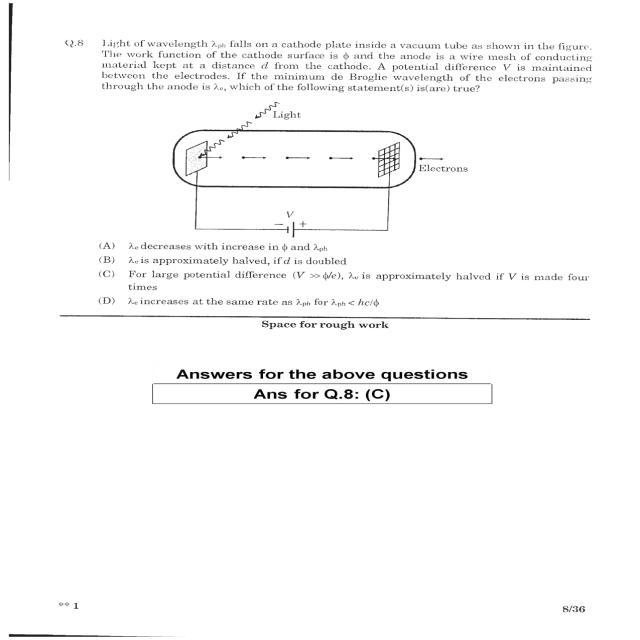Answer_Block: (22, 242, 623, 316)
Question_Answer_Block: (21, 16, 623, 318)
Question_Block: (18, 18, 624, 238)
Question_Paper_Area: (18, 16, 624, 456)
